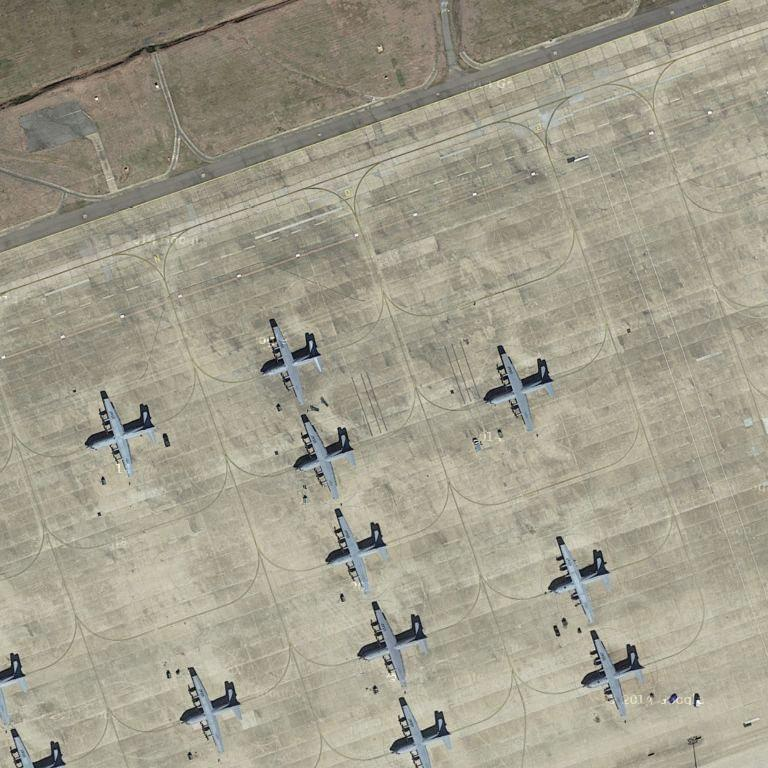C-130: (482, 345, 555, 433), (546, 532, 613, 624), (579, 629, 645, 722), (85, 392, 152, 483), (324, 509, 388, 599), (359, 601, 424, 688), (260, 320, 323, 409), (176, 672, 240, 753), (292, 417, 355, 499), (390, 697, 455, 768)
